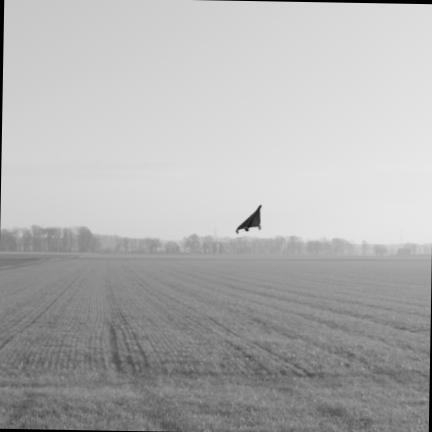Shahed: (236, 205, 260, 231)
